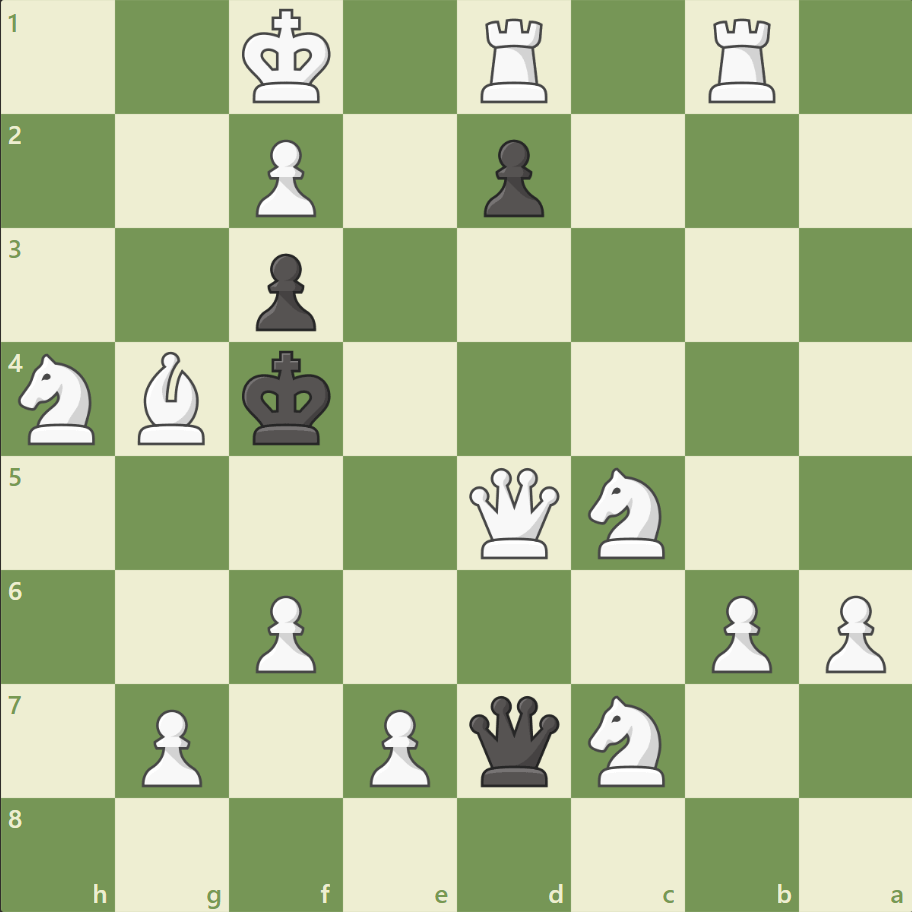B: (131, 347, 215, 449)
K: (238, 4, 338, 112)
N: (579, 688, 676, 791), (579, 461, 676, 564), (11, 348, 108, 450)
P: (133, 700, 208, 791), (701, 586, 776, 677), (247, 586, 322, 677), (247, 132, 322, 223), (361, 700, 435, 791), (815, 586, 889, 677)
Q: (464, 463, 563, 562)
R: (700, 12, 783, 109), (473, 12, 556, 109)
k: (238, 344, 338, 452)
p: (247, 246, 322, 337), (474, 132, 549, 223)
q: (464, 690, 563, 789)
